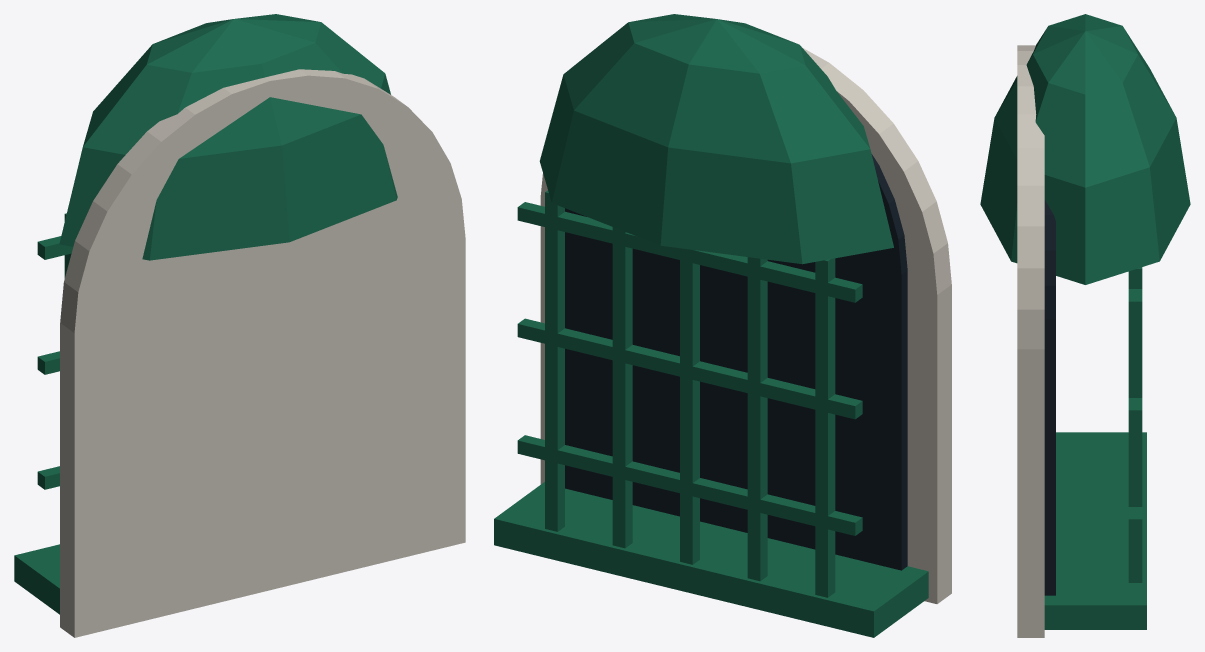
Rendered from window_birdcage_green.glb.
3 views of the same model, side by side, from view 1: azimuth 30°, elevation 25°; view 2: azimuth 150°, elevation 25°; view 3: azimuth 270°, elevation 25° (orthographic). The views are drawn at different scales.
Parts seen in each view (by area): view 1: window_birdcage_green; view 2: window_birdcage_green; view 3: window_birdcage_green.
Part boxes in pixels (x1,y1,x2,y2): window_birdcage_green: [14, 14, 465, 637]; window_birdcage_green: [494, 14, 951, 637]; window_birdcage_green: [980, 14, 1190, 637].
Size of the model in its own units: 0.94 by 1.25 by 0.462.
